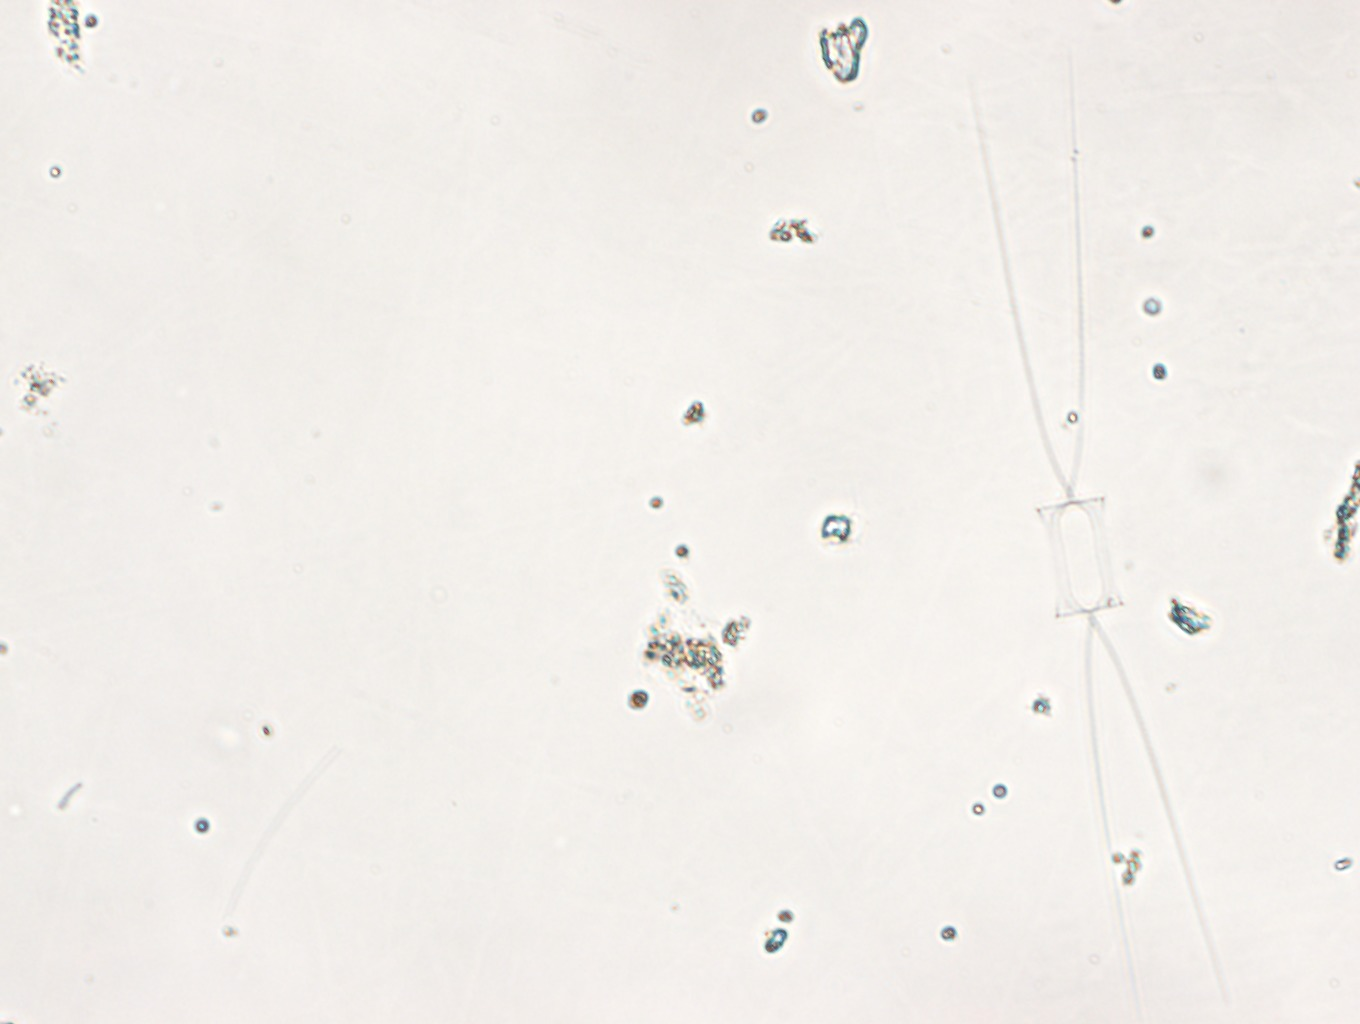chaetoceros: (961, 76, 1233, 1002)
